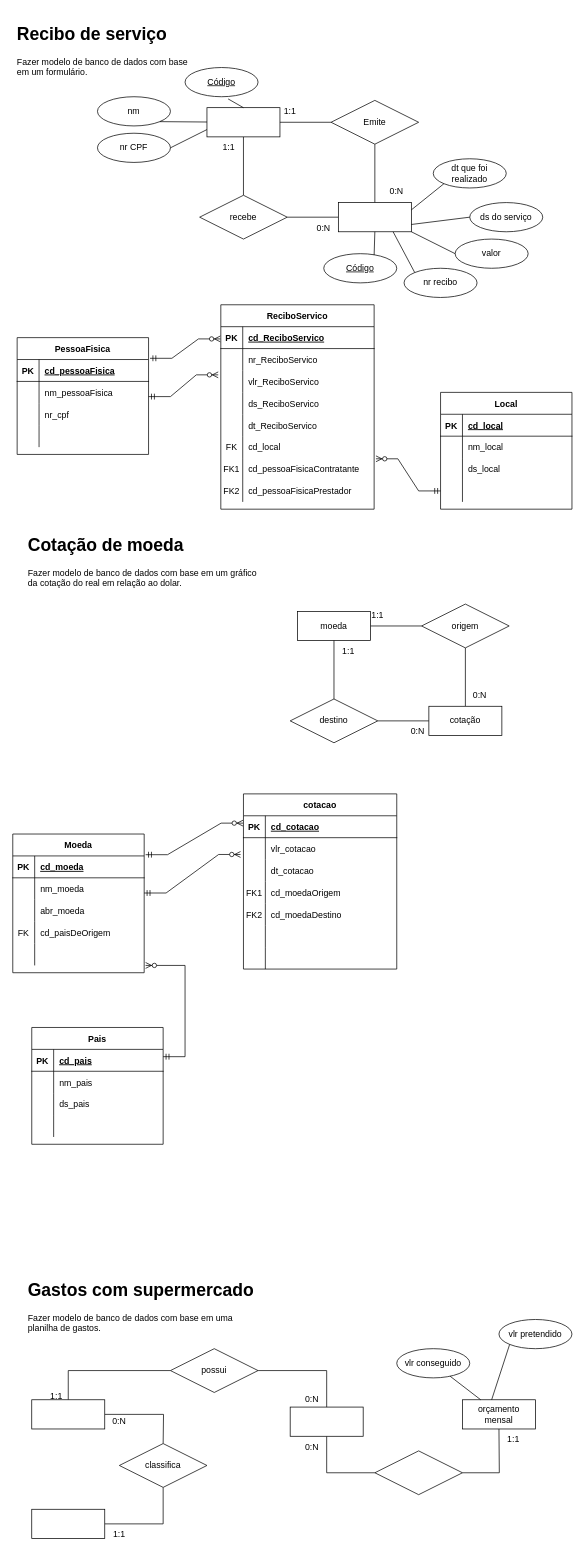
Image size: 585x1558. Some labels were removed from this diagram. Here are the shapes that lost their labels. From the top down, the centre of each, then its label:
At [243,122]: "Pessoa Fisica".
At [374,217]: "recibo".
At [68,1414]: "Itens".
At [326,1421]: "compras".
At [418,1472]: "tem".
At [68,1523]: "Categoria".
